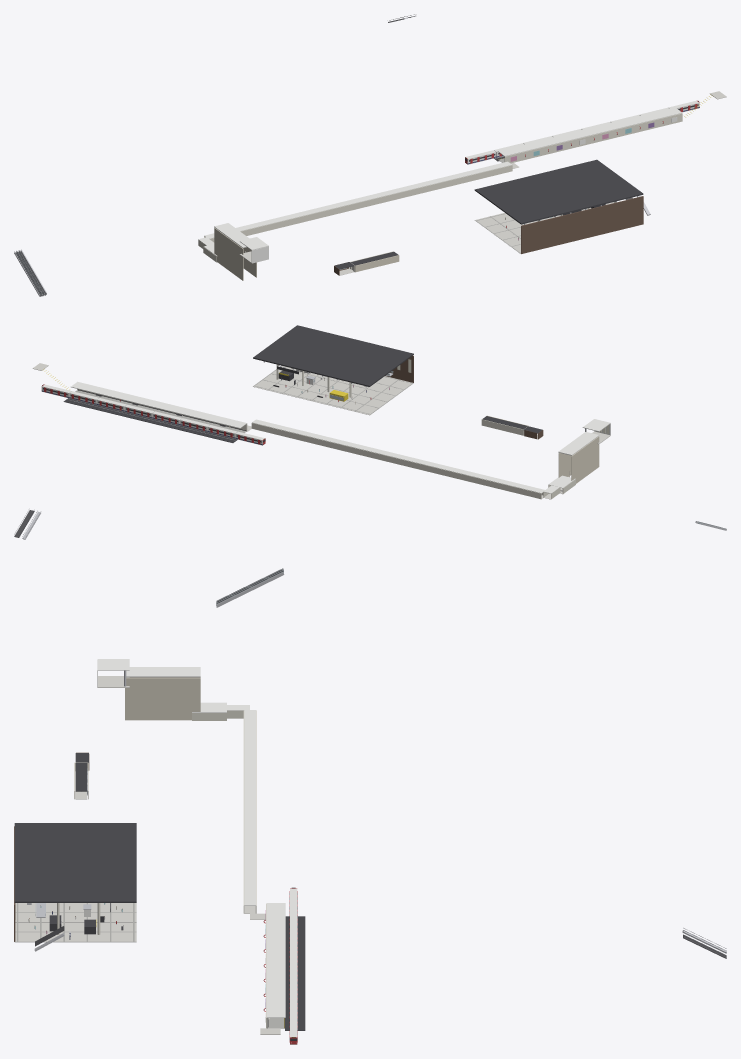
The picture shows the model from 3 angles, top to bottom: view 1: azimuth 30°, elevation 25°; view 2: azimuth 150°, elevation 25°; view 3: azimuth 270°, elevation 25°; orthographic projection. The views are drawn at different scales.
Parts seen in each view (by area): view 1: S02_roof, S02_nwall, S05_corrB_w1, S05_corrB_ceil, S04_ceiling, S04_swall, S02_floor, S03_w_wall; view 2: S02_roof, S02_floor, S05_corrB_w2, S05_corrB_ceil, S04_ceiling, S04_trackbed, S03_w_wall, S04_floor, S03_ceiling, S02_nwall; view 3: S02_roof, S02_floor, S03_e_wall, S05_corrB_ceil, S04_ceiling, S04_trackbed, S03_ceiling.
Part boxes in pixels (box(x1,y1,x2,y2)): S02_roof: box(474, 159, 643, 224); S02_nwall: box(521, 196, 643, 253); S05_corrB_w1: box(209, 165, 512, 242); S05_corrB_ceil: box(204, 161, 511, 238); S04_ceiling: box(497, 107, 681, 156); S04_swall: box(504, 113, 682, 163); S02_floor: box(476, 202, 613, 252); S03_w_wall: box(214, 228, 243, 280); S02_roof: box(253, 325, 413, 386); S02_floor: box(253, 366, 412, 415); S05_corrB_w2: box(251, 423, 541, 499); S05_corrB_ceil: box(252, 419, 545, 493); S04_ceiling: box(71, 381, 246, 428); S04_trackbed: box(63, 398, 237, 442); S03_w_wall: box(571, 436, 599, 483); S04_floor: box(75, 390, 246, 432); S03_ceiling: box(558, 432, 599, 455); S02_nwall: box(385, 355, 413, 382); S02_roof: box(14, 823, 136, 902); S02_floor: box(15, 903, 136, 941); S03_e_wall: box(125, 678, 200, 720); S05_corrB_ceil: box(244, 710, 255, 905); S04_ceiling: box(266, 903, 285, 1017); S04_trackbed: box(285, 916, 305, 1030); S03_ceiling: box(126, 667, 200, 677).
Size of the model in its own units: 368 by 20.55 by 245.
